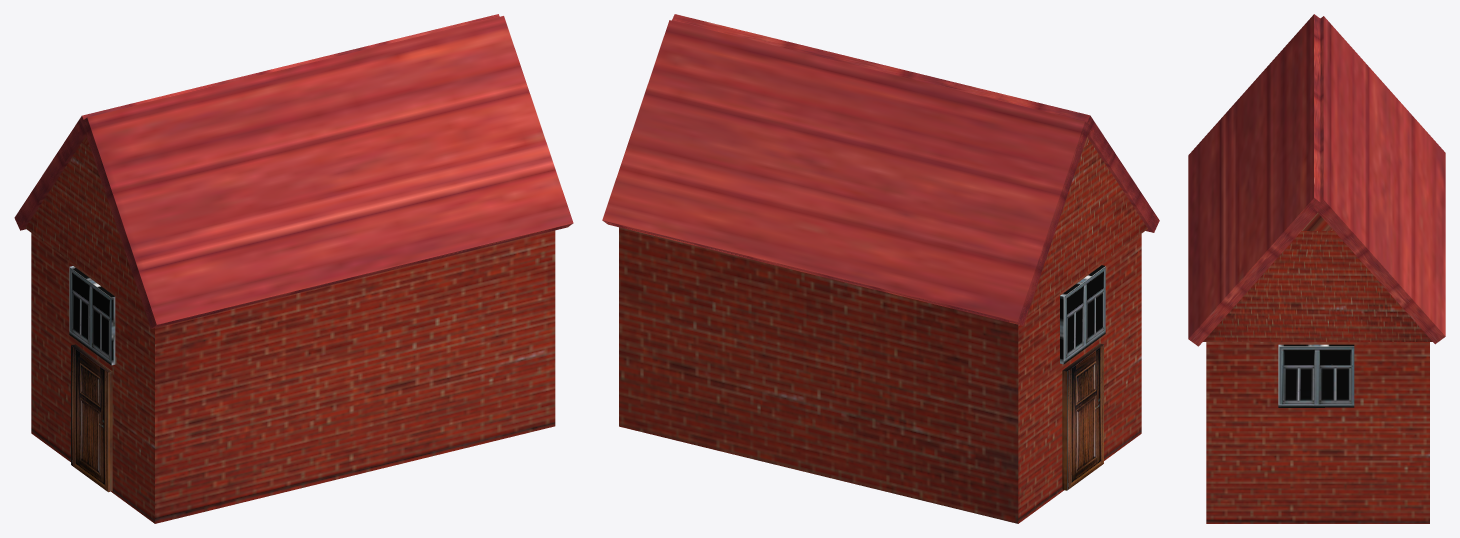
File: ps1_style_house.glb
3 views of the same model, side by side, from view 1: azimuth 30°, elevation 25°; view 2: azimuth 150°, elevation 25°; view 3: azimuth 270°, elevation 25° (orthographic). The views are drawn at different scales.
Parts seen in each view (by area): view 1: Material_003-material, Material-material, Material_002-material, Material_005-material, Material_004-material, Material_006-material; view 2: Material-material, Material_004-material, Material_002-material, Material_005-material, Material_003-material, Material_006-material; view 3: Material-material, Material_003-material, Material_004-material, Material_001-material, Material_007-material.
Boxes of the visible parts, left/top/right/bottom form: Material_003-material: left=81, top=16, right=573, bottom=328; Material-material: left=31, top=230, right=555, bottom=523; Material_002-material: left=25, top=136, right=146, bottom=316; Material_005-material: left=71, top=344, right=112, bottom=492; Material_004-material: left=14, top=14, right=499, bottom=230; Material_006-material: left=69, top=266, right=115, bottom=365; Material-material: left=619, top=227, right=1141, bottom=523; Material_004-material: left=602, top=20, right=1090, bottom=325; Material_002-material: left=1009, top=137, right=1147, bottom=324; Material_005-material: left=1062, top=343, right=1103, bottom=490; Material_003-material: left=672, top=14, right=1159, bottom=232; Material_006-material: left=1060, top=265, right=1105, bottom=364; Material-material: left=1206, top=342, right=1429, bottom=523; Material_003-material: left=1188, top=14, right=1320, bottom=346; Material_004-material: left=1313, top=16, right=1445, bottom=344; Material_001-material: left=1203, top=213, right=1432, bottom=341; Material_007-material: left=1278, top=344, right=1354, bottom=407.
Size of the model in its own units: 11.45 by 9.58 by 6.78.
Materials: 8 (8 with a texture image).
